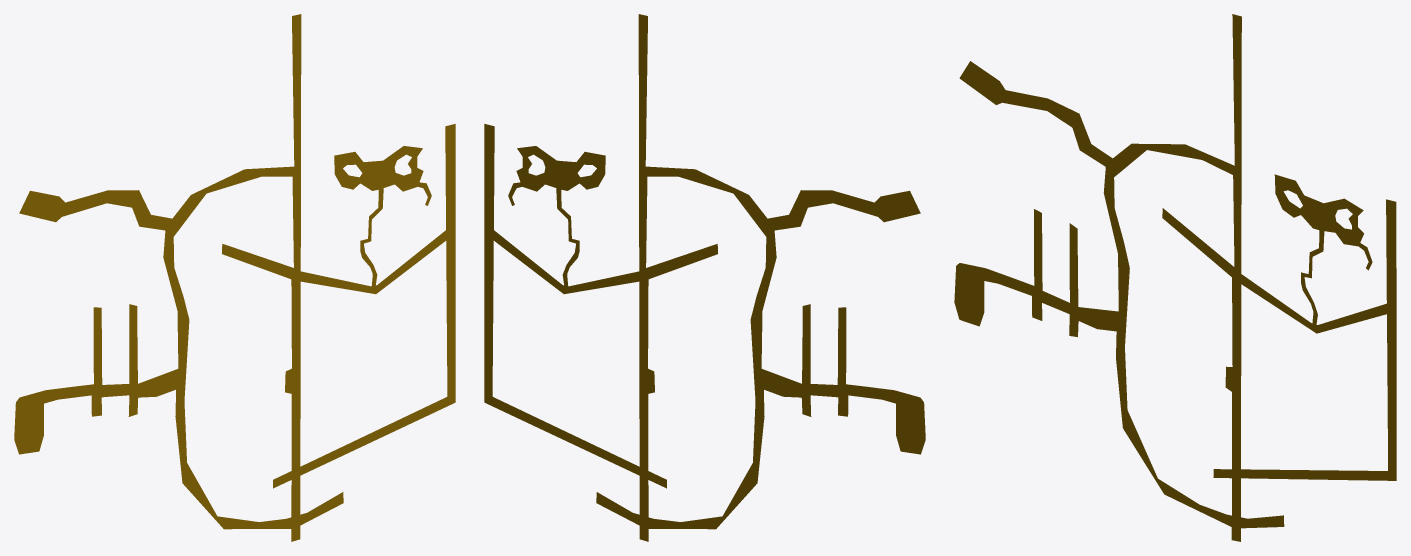
File: corridors_sup_public_accessible_floor_tri.obj
3 views of the same model, side by side, from view 1: azimuth 30°, elevation 25°; view 2: azimuth 150°, elevation 25°; view 3: azimuth 330°, elevation 25° (orthographic).
Visible parts, largest first — view 1: corridors_sup_public_accessible_floor_tri_0; view 2: corridors_sup_public_accessible_floor_tri_0; view 3: corridors_sup_public_accessible_floor_tri_0.
Part boxes in pixels (<box>): corridors_sup_public_accessible_floor_tri_0: <box>14,14,455,541</box>; corridors_sup_public_accessible_floor_tri_0: <box>484,14,925,541</box>; corridors_sup_public_accessible_floor_tri_0: <box>954,14,1396,541</box>.
Size of the model in its own units: 47.97 by 54.56 by 0.
